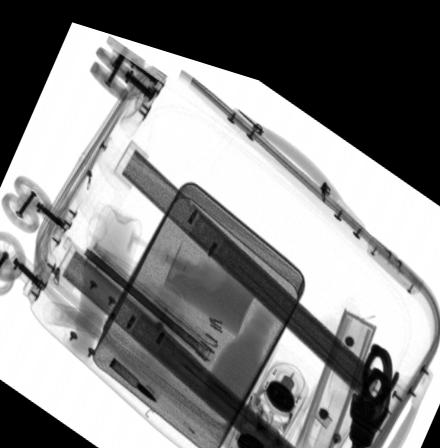Bullet: (107, 347, 156, 390)
HandCuffs: (349, 317, 398, 442)
